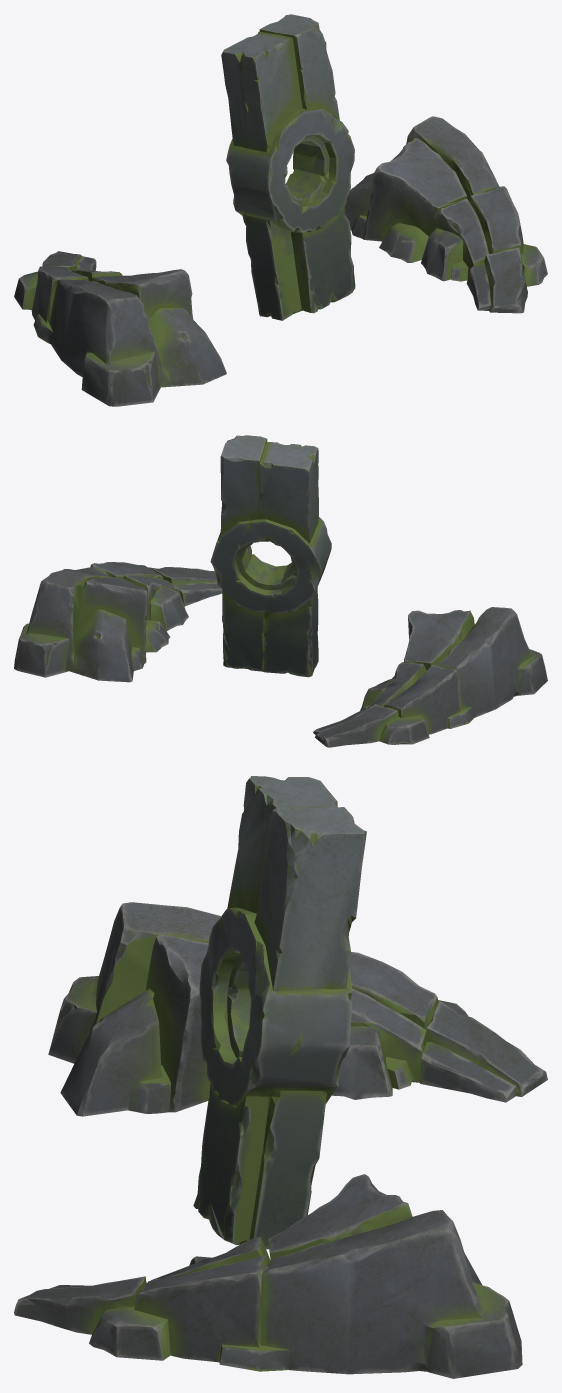
The model's file is ruins.glb.
The picture shows the model from 3 angles, top to bottom: view 1: azimuth 30°, elevation 25°; view 2: azimuth 150°, elevation 25°; view 3: azimuth 270°, elevation 25°; orthographic projection. The views are drawn at different scales.
Visible parts, largest first — view 1: Ruins; view 2: Ruins; view 3: Ruins.
Boxes of the visible parts, box(x1,y1,x2,y2) form: Ruins: box(14, 14, 547, 406); Ruins: box(14, 435, 547, 747); Ruins: box(14, 776, 547, 1378).
Bounding box in the file's own units: 9.49 × 5 × 5.81.
2 materials, 2 textured.
